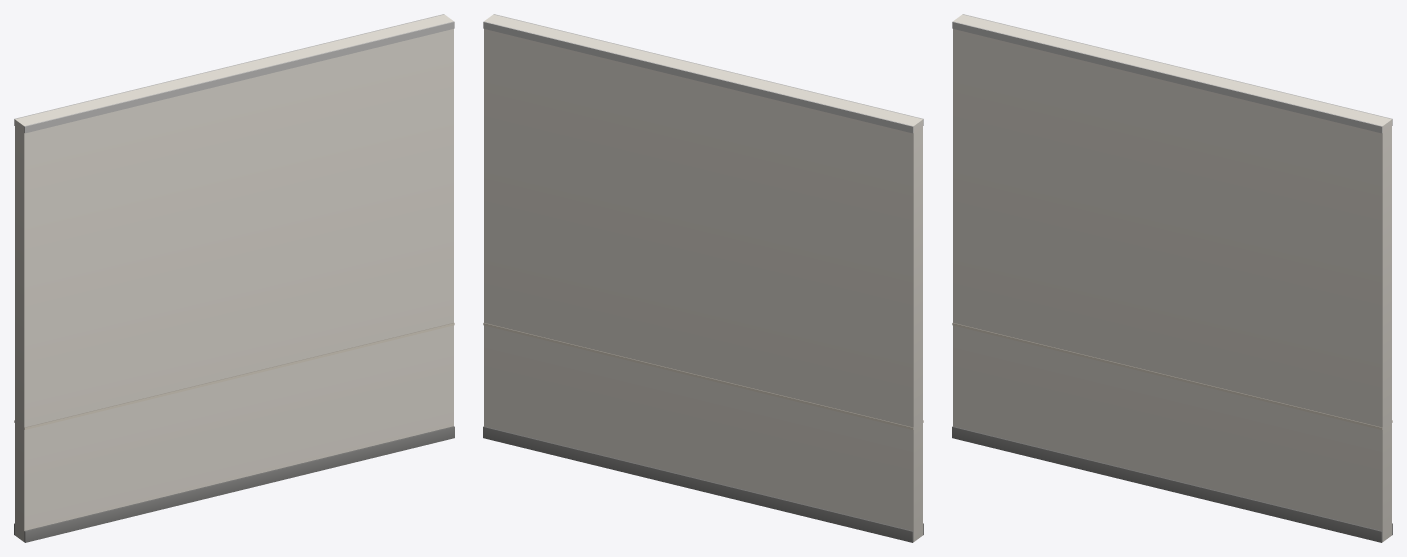
File: wall_solid_01.glb
3 views of the same model, side by side, from view 1: azimuth 30°, elevation 25°; view 2: azimuth 150°, elevation 25°; view 3: azimuth 330°, elevation 25° (orthographic).
Parts seen in each view (by area): view 1: wall_solid_01_mesh; view 2: wall_solid_01_mesh; view 3: wall_solid_01_mesh.
Part boxes in pixels (x1,y1,x2,y2): wall_solid_01_mesh: [14, 14, 454, 542]; wall_solid_01_mesh: [483, 14, 923, 542]; wall_solid_01_mesh: [952, 14, 1392, 542].
Bounding box in the file's own units: 4 × 3.7 × 0.1802.
Materials: 1 (1 with a texture image).
